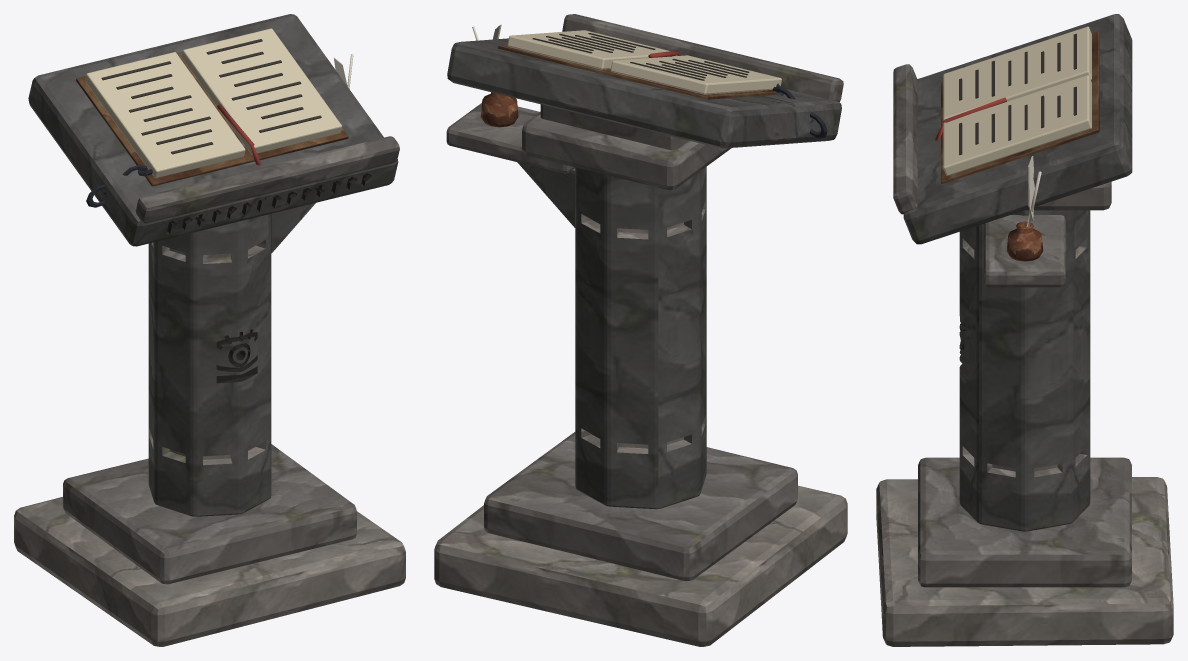
Rendered from vo_log_lectern.glb.
3 renders of one model, left to right at view 1: azimuth 30°, elevation 25°; view 2: azimuth 150°, elevation 25°; view 3: azimuth 270°, elevation 25°, orthographic. The views are drawn at different scales.
Visible parts, largest first — view 1: model; view 2: model; view 3: model.
Boxes of the visible parts, x1,y1,x2,y2 form: model: [14, 14, 405, 646]; model: [434, 14, 847, 646]; model: [876, 14, 1173, 646].
Bounding box in the file's own units: 0.7346 × 1.11 × 0.584.
12 materials, 6 textured.
